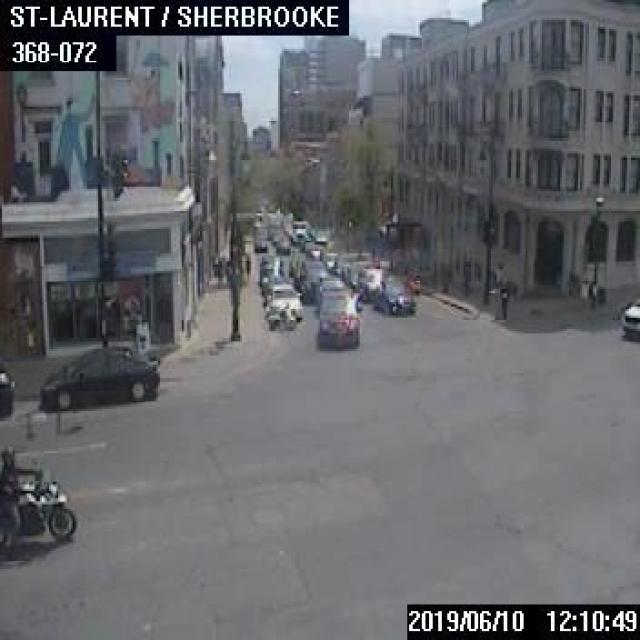pedestrian: (498, 280, 507, 318), (211, 251, 222, 279), (243, 249, 250, 275)
vehicle: (40, 342, 158, 411), (0, 449, 75, 549), (314, 288, 359, 346), (373, 275, 415, 314), (264, 281, 304, 321), (313, 275, 351, 313), (298, 258, 329, 300), (354, 266, 384, 301), (618, 291, 638, 338), (262, 300, 294, 328), (0, 362, 15, 420), (260, 272, 292, 296), (256, 262, 278, 284), (406, 270, 426, 292), (286, 220, 304, 244), (256, 253, 278, 270), (322, 250, 338, 268), (274, 235, 288, 253), (252, 234, 265, 251)
